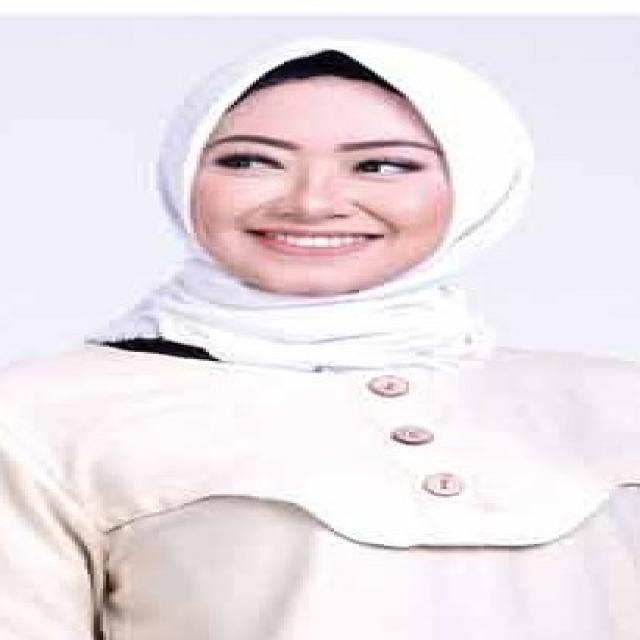head: (167, 36, 466, 314)
